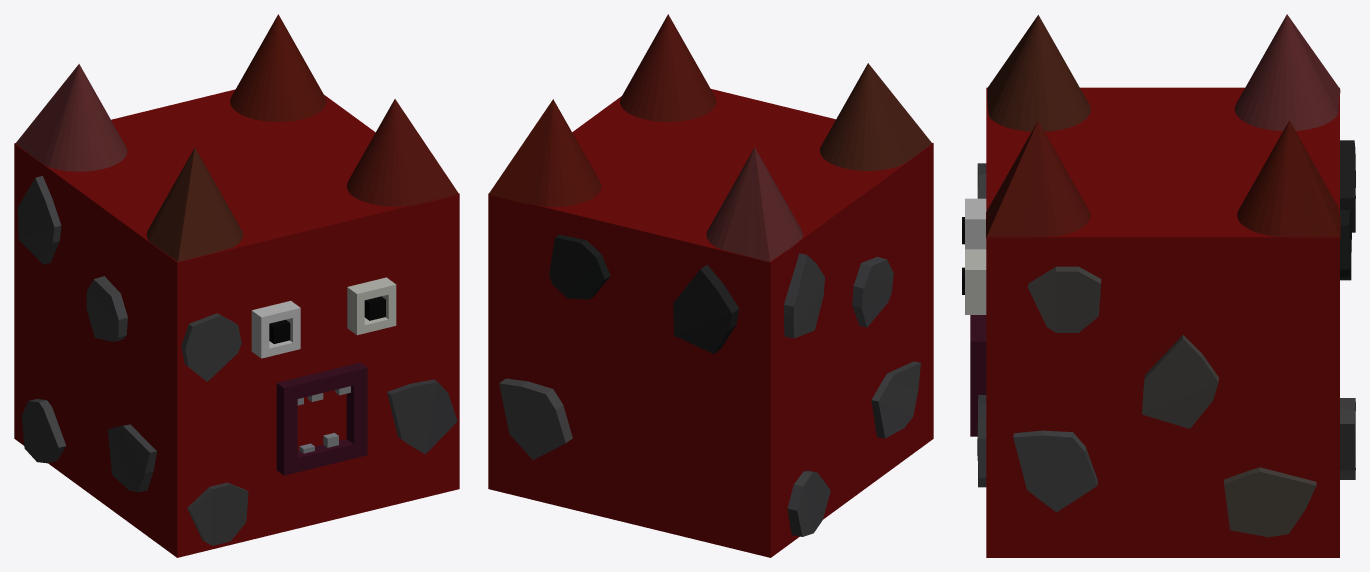
Rendered from моделька босса.fbx.
3 views of the same model, side by side, from view 1: azimuth 30°, elevation 25°; view 2: azimuth 150°, elevation 25°; view 3: azimuth 270°, elevation 25° (orthographic). The views are drawn at different scales.
Parts seen in each view (by area): view 1: Куб, Конус.001, Конус.004, Конус.003, Куб.003, Конус.002, Куб.015, Куб.013, Куб.014, Куб.023, Куб.024, Куб.021 (+3 smaller); view 2: Куб, Конус.003, Конус.002, Конус.001, Конус.004, Куб.011, Куб.019, Куб.020, Куб.024, Куб.023, Куб.022, Куб.021; view 3: Куб, Конус.001, Конус.003, Конус.004, Конус.002, Куб.017, Куб.018, Куб.016, Куб.012, Куб.003, Куб.002, Куб.011 (+4 smaller).
Boxes of the visible parts, x1,y1,x2,y2 form: Куб: [14, 89, 459, 557]; Конус.001: [16, 64, 127, 171]; Конус.004: [346, 99, 459, 206]; Конус.003: [146, 147, 242, 261]; Куб.003: [276, 362, 367, 475]; Конус.002: [230, 14, 326, 121]; Куб.015: [387, 379, 457, 454]; Куб.013: [181, 313, 241, 381]; Куб.014: [187, 482, 248, 545]; Куб.023: [17, 176, 61, 264]; Куб.024: [107, 424, 156, 491]; Куб.021: [21, 399, 66, 463]; Куб: [488, 89, 933, 557]; Конус.003: [820, 63, 931, 170]; Конус.002: [488, 99, 601, 206]; Конус.001: [706, 147, 802, 262]; Конус.004: [620, 14, 716, 121]; Куб.011: [499, 378, 572, 459]; Куб.019: [673, 265, 739, 353]; Куб.020: [549, 234, 610, 299]; Куб.024: [871, 361, 920, 438]; Куб.023: [784, 253, 824, 338]; Куб.022: [852, 256, 893, 327]; Куб.021: [787, 471, 830, 536]; Куб: [986, 87, 1339, 557]; Конус.001: [1234, 14, 1340, 131]; Конус.003: [987, 15, 1090, 131]; Конус.004: [986, 121, 1090, 238]; Конус.002: [1237, 120, 1340, 238]; Куб.017: [1224, 467, 1316, 537]; Куб.018: [1013, 430, 1097, 512]; Куб.016: [1142, 334, 1218, 428]; Куб.012: [1028, 266, 1101, 332]; Куб.003: [970, 315, 986, 436]; Куб.002: [965, 249, 986, 314]; Куб.011: [1340, 398, 1355, 479].
Bounding box in the file's own units: 367 × 442 × 379.
